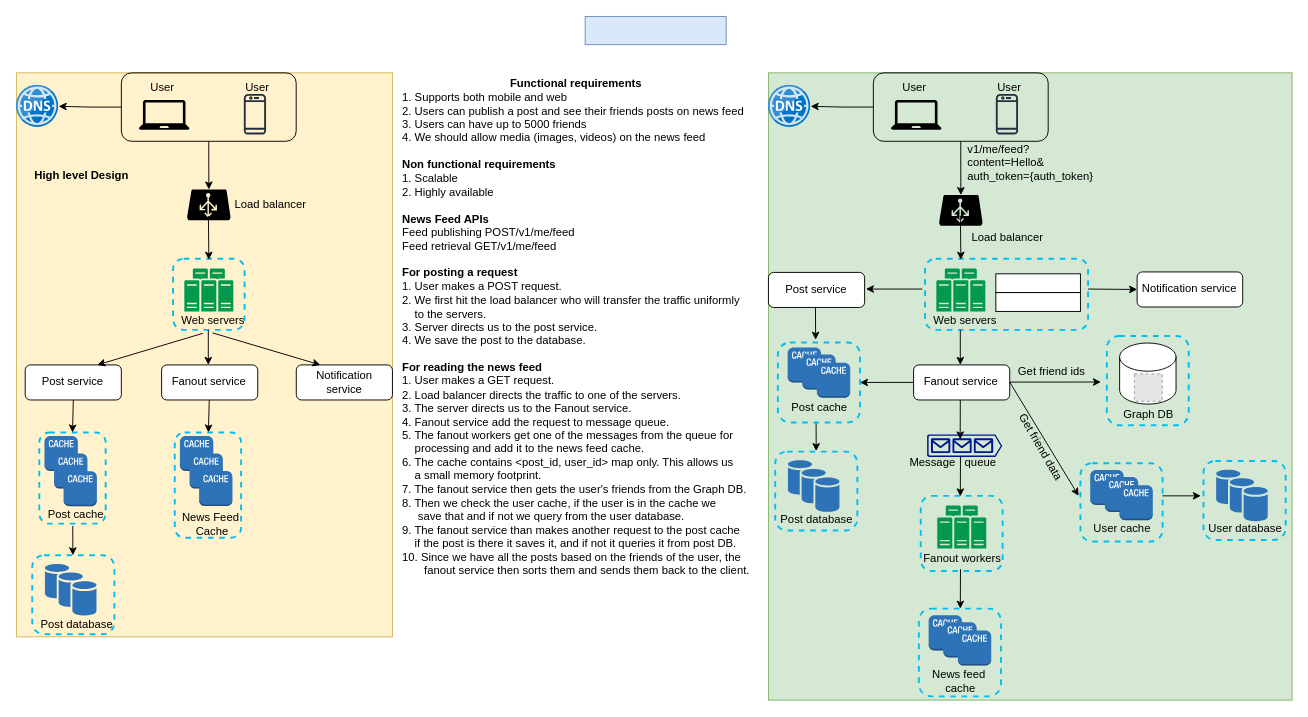
Some shapes in this 1308 by 717 pixel diagram are drawn without their labels. Grey dashed boxes stand in for pictures. Each missing label, with the centre of its shape:
"Authentication" belongs at (x=1037, y=283).
"News Feed Design" belongs at (x=655, y=30).
"Rate Limiting" belongs at (x=1037, y=301).
